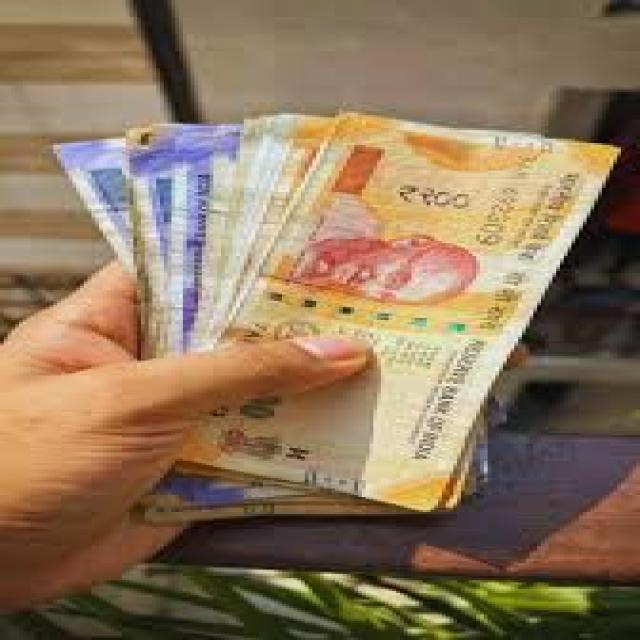money: (175, 103, 624, 511)
